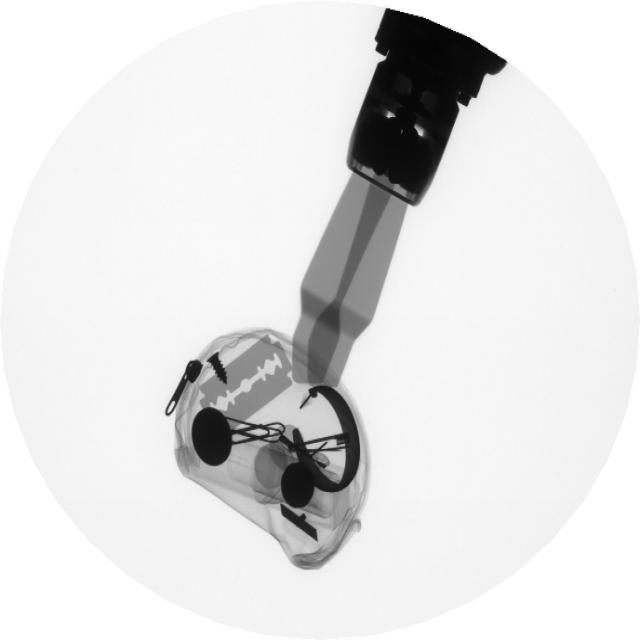BLADE: (201, 331, 298, 429)
